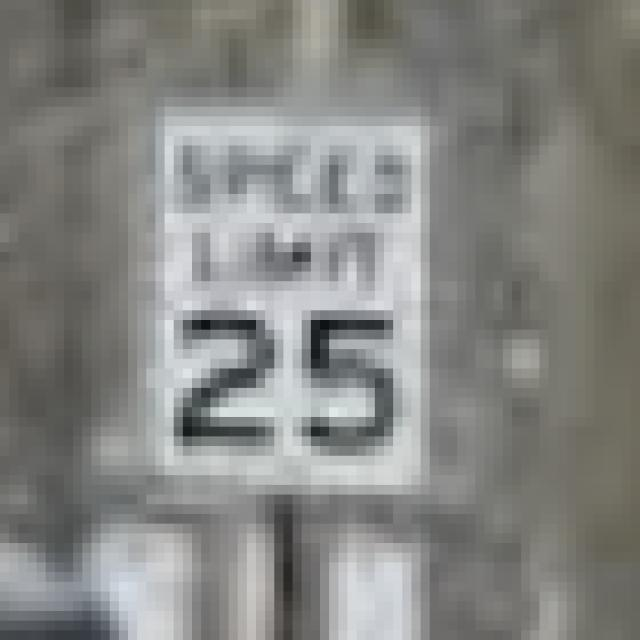speedLimit25: (158, 128, 420, 494)
